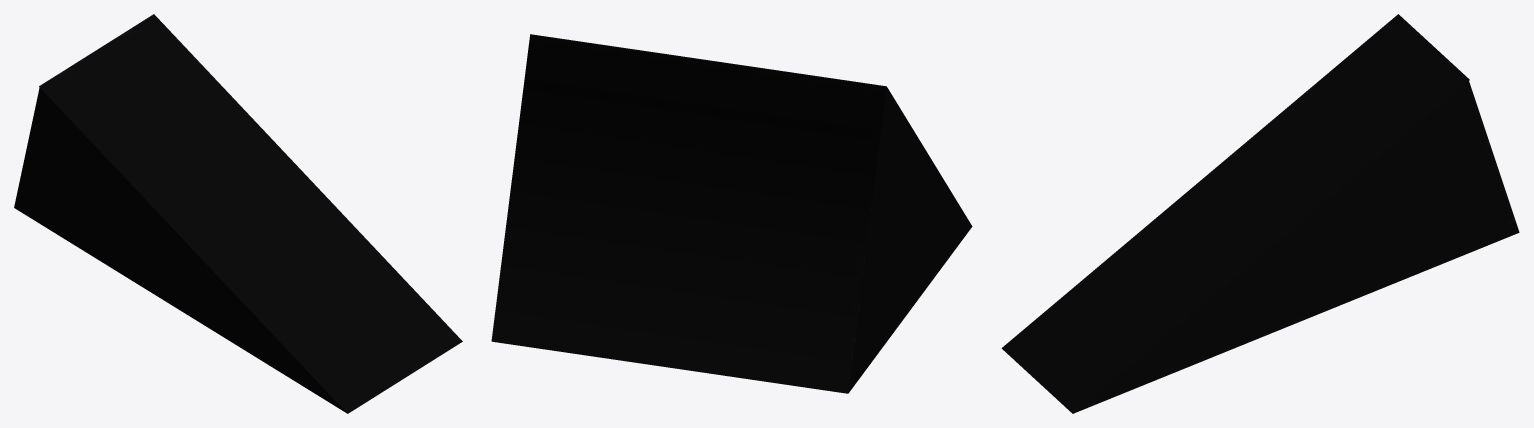
Rendered from rampa.fbx.
3 views of the same model, side by side, from view 1: azimuth 30°, elevation 25°; view 2: azimuth 150°, elevation 25°; view 3: azimuth 270°, elevation 25° (orthographic). The views are drawn at different scales.
Visible parts, largest first — view 1: node_id30; view 2: node_id30; view 3: node_id30.
Boxes of the visible parts, <box> form: node_id30: <box>14,14,462,413</box>; node_id30: <box>491,34,972,393</box>; node_id30: <box>1001,14,1519,413</box>.
Size of the model in its own units: 0.3523 by 0.2915 by 0.4956.
1 material, 1 textured.
